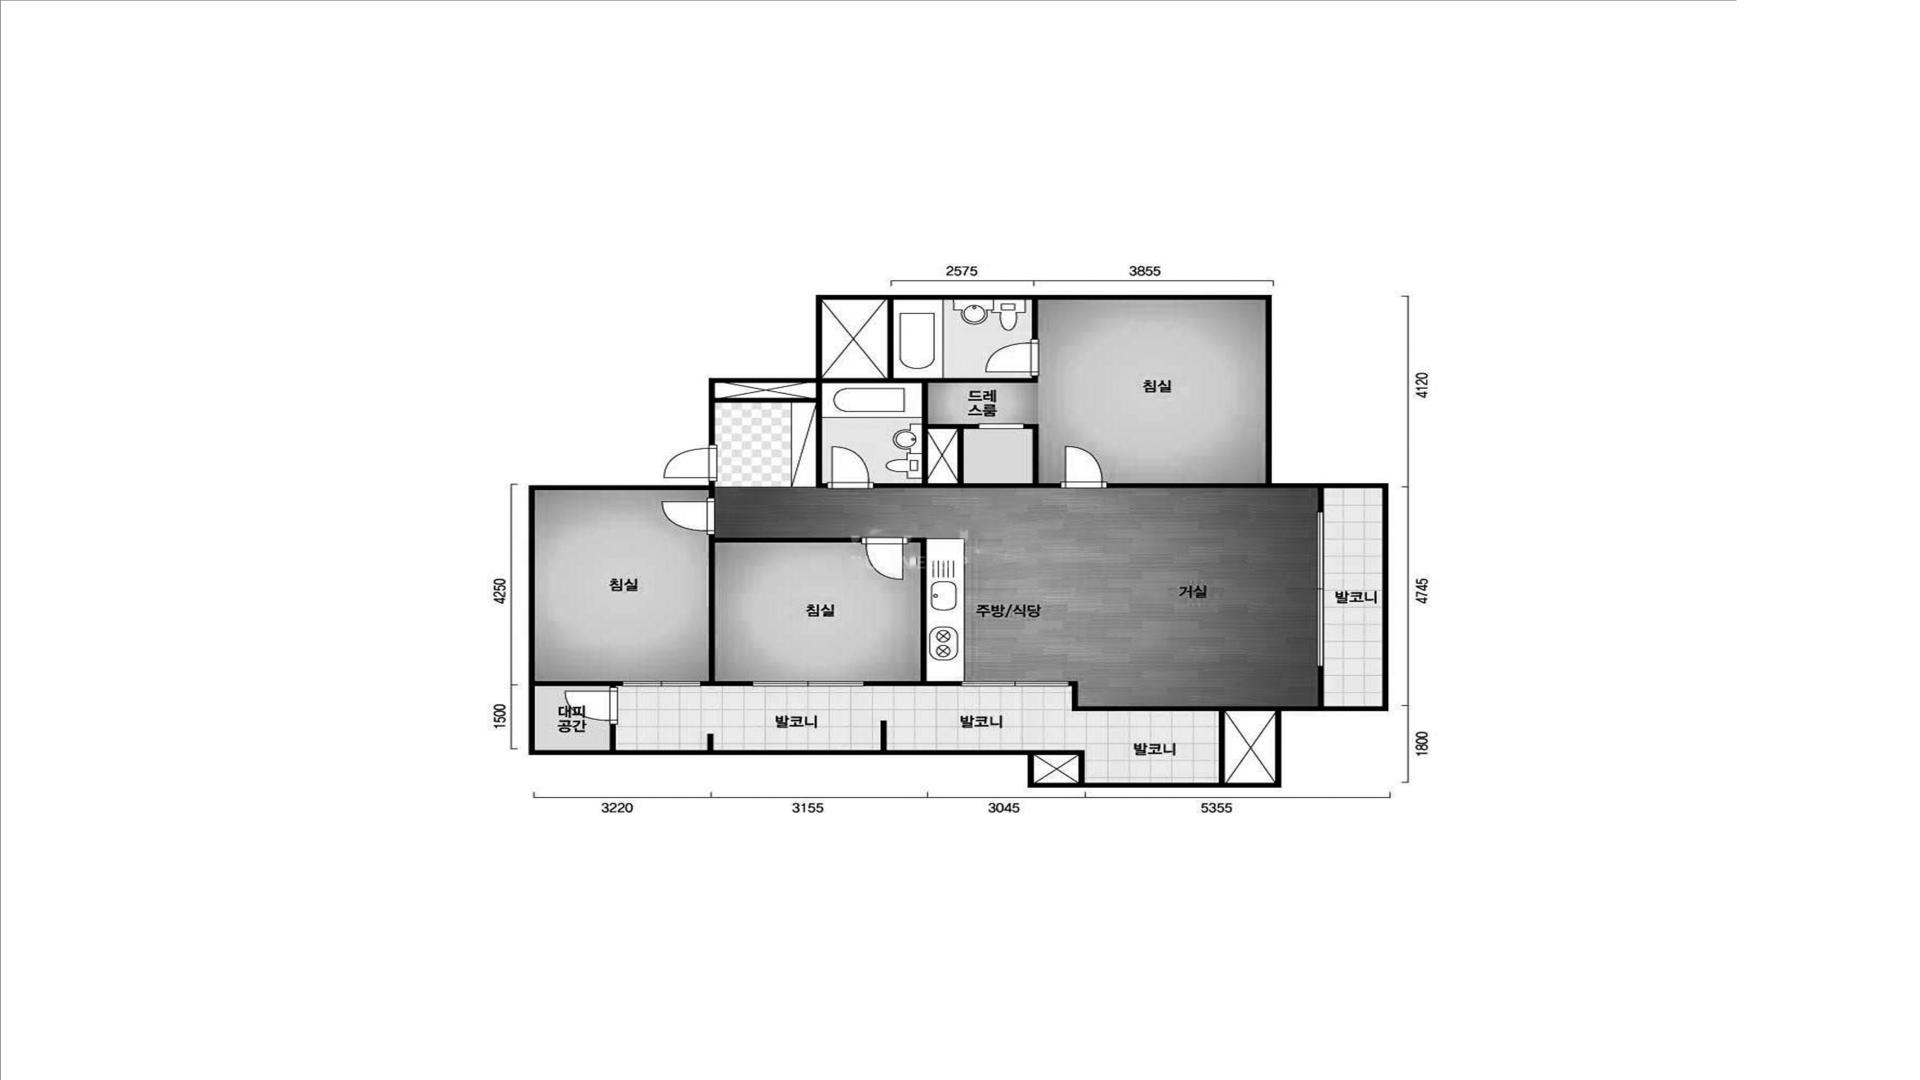door: (861, 537, 907, 583), (828, 446, 874, 489), (1060, 446, 1106, 489), (662, 444, 716, 481), (985, 339, 1039, 376), (659, 498, 715, 534), (564, 687, 617, 724)
wall: (529, 294, 1389, 787), (823, 299, 1060, 489), (700, 534, 861, 687), (1068, 680, 1275, 783), (864, 538, 961, 687), (716, 384, 828, 489), (1033, 750, 1085, 783), (928, 429, 957, 483), (1106, 483, 1266, 489), (535, 680, 622, 687), (1031, 301, 1039, 339), (1317, 666, 1324, 705), (609, 724, 617, 750), (881, 720, 887, 750), (1317, 489, 1324, 512), (707, 733, 713, 750), (708, 491, 715, 498)
window: (1317, 512, 1324, 666), (753, 680, 864, 687), (961, 680, 1068, 687), (622, 680, 700, 687)
